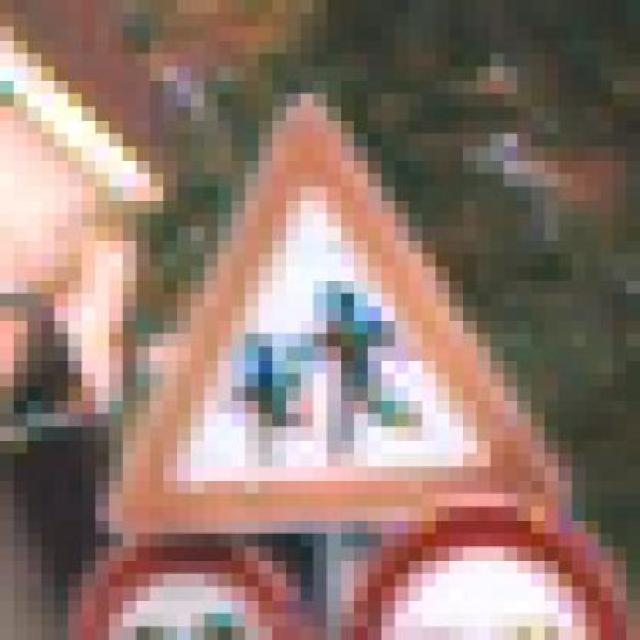Beware of children: (82, 79, 572, 547)
